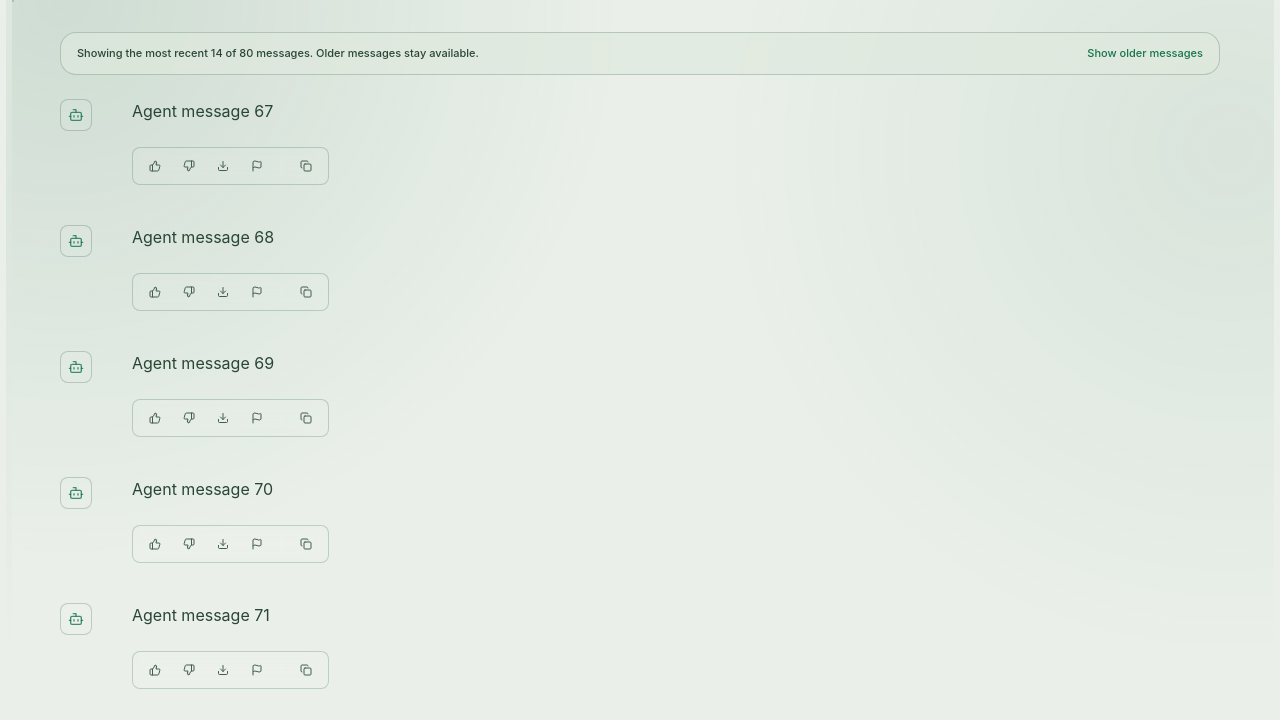
Test: DeepSpaceThread virtualization › keeps agent timelines bounded while scrolling and exposes older batches
Check: the text "Agent message 67" is shown, box [132,100,273,120]
What coordinates should you click on to do the following:
click the button "Show older messages"
I would click on:
 (1145, 53)
Its box is [1087,45,1203,62].
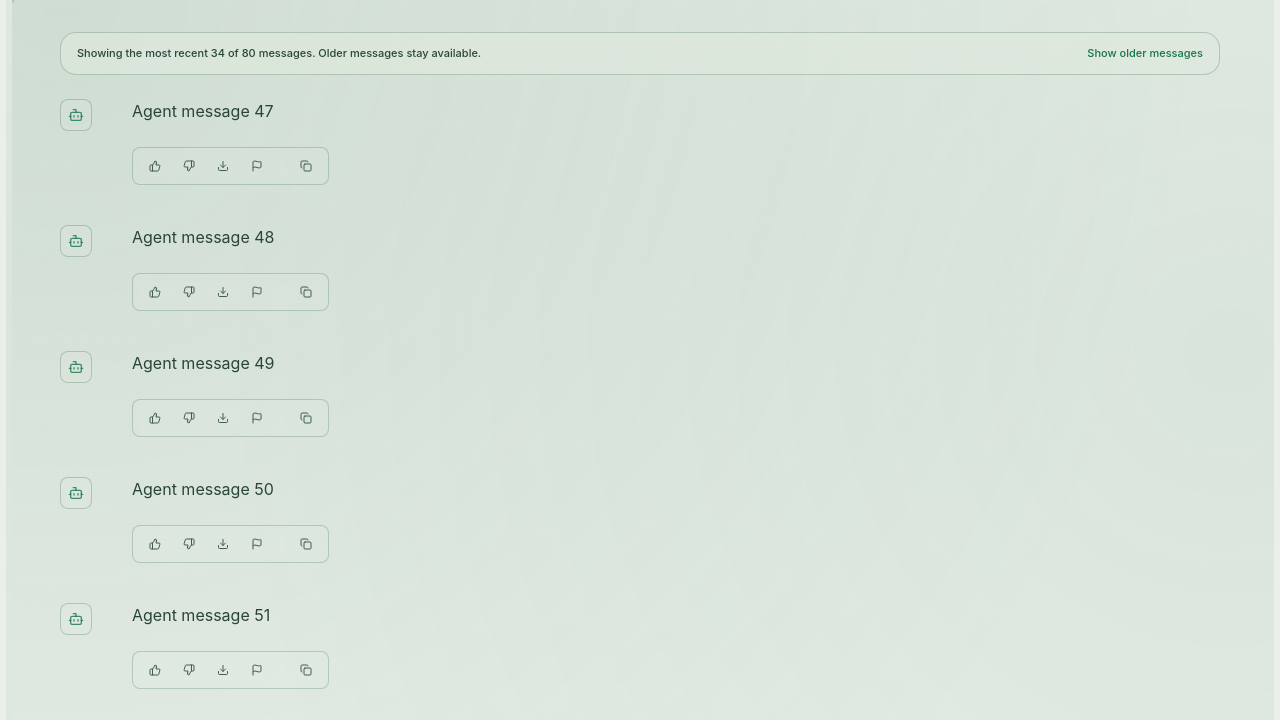
Check: the text "Agent message 47" is shown, box [132,100,274,120]
